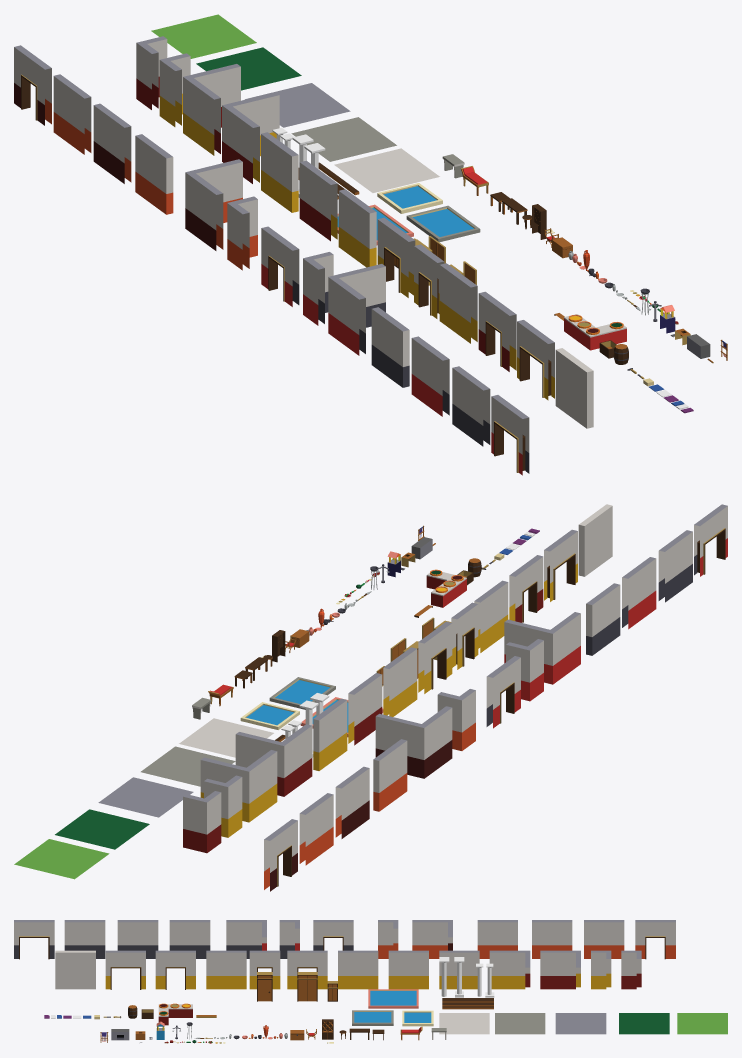
File: RomaModularKit.fbx
3 renders of one model, top to bottom at view 1: azimuth 30°, elevation 25°; view 2: azimuth 150°, elevation 25°; view 3: azimuth 270°, elevation 25°, orthographic. The views are drawn at different scales.
Parts seen in each view (by area): view 1: Parede_Canto_TipoDOIS_v_C, Parede_Canto_TipoDOIS_v_B, Parede_Canto_TipoUM, Parede_Canto_TipoDOIS, Piso_5x5_TipoUM, Grama_TipoDOIS, Piso_5x5_TipoTRES, Parede_BlocoCompleto, Parede_v_B, Parede_v_C, Parede_SemLaterais_TipoDOIS_v_C, Parede_SemLaterais_TipoDOIS_v_B (+22 smaller); view 2: Parede_Canto_TipoDOIS_v_B, Parede_Canto_TipoDOIS, Parede_Canto_TipoDOIS_v_C, Parede_Canto_TipoUM, Parede_Canto_TipoQUATRO, Grama_TipoUM, Grama_TipoDOIS, Piso_5x5_TipoDOIS, Parede_v_C, Parede, Parede_BlocoCompleto, Parede_v_B (+22 smaller); view 3: Parede_SemLaterais_TipoDOIS, Parede_BlocoCompleto, Parede_SemLaterais_TipoUM, Parede_UmaLateral, Parede_Canto_TipoUM, Parede_Canto_TipoDOIS, Parede_SemLaterais_TipoDOIS_v_B, Parede_v_C, Parede_SemLaterais_TipoUM_v_C, Parede_SemLaterais_TipoDOIS_v_C, Parede_v_B, Parede_Canto_TipoDOIS_v_B (+31 smaller).
Part boxes in pixels (left/top/right/bottom): Parede_Canto_TipoDOIS_v_C: left=328, top=264, right=385, bottom=355; Parede_Canto_TipoDOIS_v_B: left=185, top=159, right=242, bottom=250; Parede_Canto_TipoUM: left=183, top=64, right=240, bottom=155; Parede_Canto_TipoDOIS: left=222, top=92, right=279, bottom=183; Piso_5x5_TipoUM: left=334, top=148, right=439, bottom=192; Grama_TipoDOIS: left=151, top=14, right=256, bottom=58; Piso_5x5_TipoTRES: left=291, top=117, right=396, bottom=161; Parede_BlocoCompleto: left=555, top=348, right=593, bottom=428; Parede_v_B: left=135, top=134, right=173, bottom=214; Parede_v_C: left=371, top=307, right=409, bottom=387; Parede_SemLaterais_TipoDOIS_v_C: left=452, top=366, right=490, bottom=446; Parede_SemLaterais_TipoDOIS_v_B: left=53, top=74, right=91, bottom=154; Parede_Canto_TipoDOIS_v_B: left=375, top=706, right=452, bottom=778; Parede_Canto_TipoDOIS: left=235, top=724, right=312, bottom=796; Parede_Canto_TipoDOIS_v_C: left=504, top=612, right=580, bottom=684; Parede_Canto_TipoUM: left=200, top=750, right=277, bottom=822; Parede_Canto_TipoQUATRO: left=183, top=791, right=221, bottom=853; Grama_TipoUM: left=55, top=809, right=149, bottom=849; Grama_TipoDOIS: left=14, top=839, right=109, bottom=879; Piso_5x5_TipoDOIS: left=98, top=777, right=193, bottom=817; Parede_v_C: left=586, top=583, right=620, bottom=655; Parede: left=313, top=698, right=347, bottom=770; Parede_BlocoCompleto: left=578, top=504, right=612, bottom=576; Parede_v_B: left=373, top=739, right=407, bottom=811; Parede_SemLaterais_TipoDOIS: left=206, top=950, right=246, bottom=989; Parede_BlocoCompleto: left=55, top=950, right=95, bottom=989; Parede_SemLaterais_TipoUM: left=388, top=950, right=428, bottom=989; Parede_UmaLateral: left=338, top=950, right=378, bottom=989; Parede_Canto_TipoUM: left=540, top=950, right=580, bottom=989; Parede_Canto_TipoDOIS: left=489, top=950, right=530, bottom=989; Parede_SemLaterais_TipoDOIS_v_B: left=584, top=920, right=624, bottom=958; Parede_v_C: left=169, top=920, right=210, bottom=958; Parede_SemLaterais_TipoUM_v_C: left=117, top=920, right=158, bottom=958; Parede_SemLaterais_TipoDOIS_v_C: left=64, top=920, right=105, bottom=958; Parede_v_B: left=477, top=920, right=517, bottom=958; Parede_Canto_TipoDOIS_v_B: left=412, top=920, right=452, bottom=958.
Size of the model in its own units: 20.48 by 4.12 by 70.51.
Materials: 1 (1 with a texture image).
